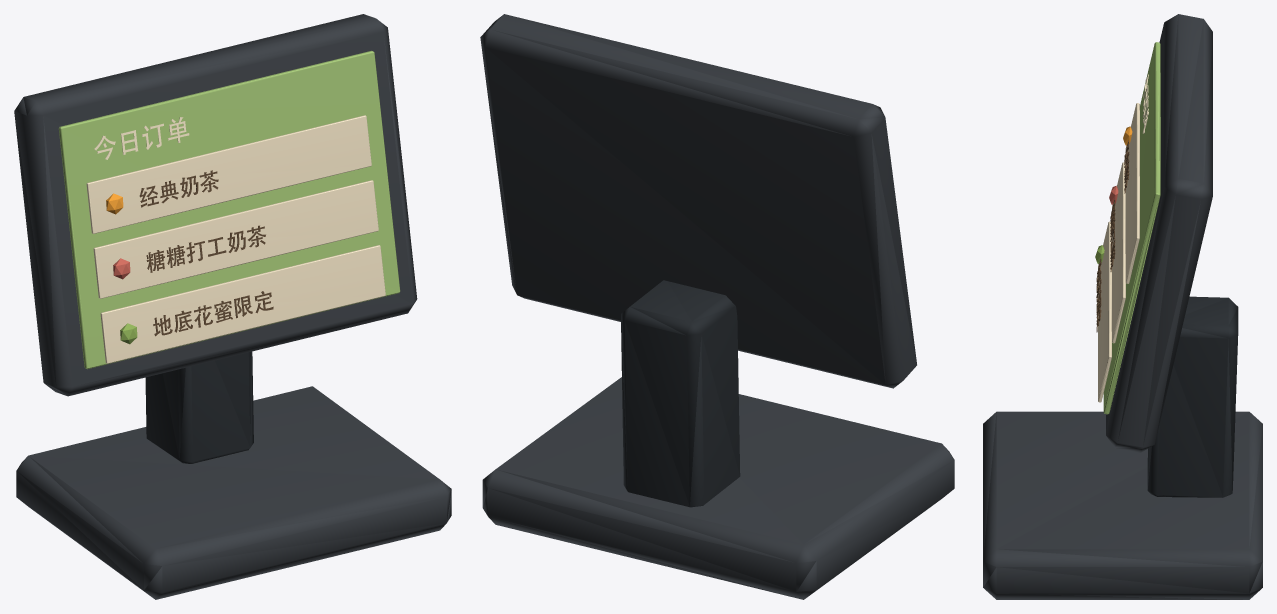
Rendered from pos_terminal.fbx.
3 views of the same model, side by side, from view 1: azimuth 30°, elevation 25°; view 2: azimuth 150°, elevation 25°; view 3: azimuth 270°, elevation 25° (orthographic). The views are drawn at different scales.
Parts seen in each view (by area): view 1: pos_terminal; view 2: pos_terminal; view 3: pos_terminal.
Part boxes in pixels (x1,y1,x2,y2): pos_terminal: (14,14,451,599); pos_terminal: (480,14,954,599); pos_terminal: (983,14,1262,599).
Bounding box in the file's own units: 34 × 39.45 × 23.
